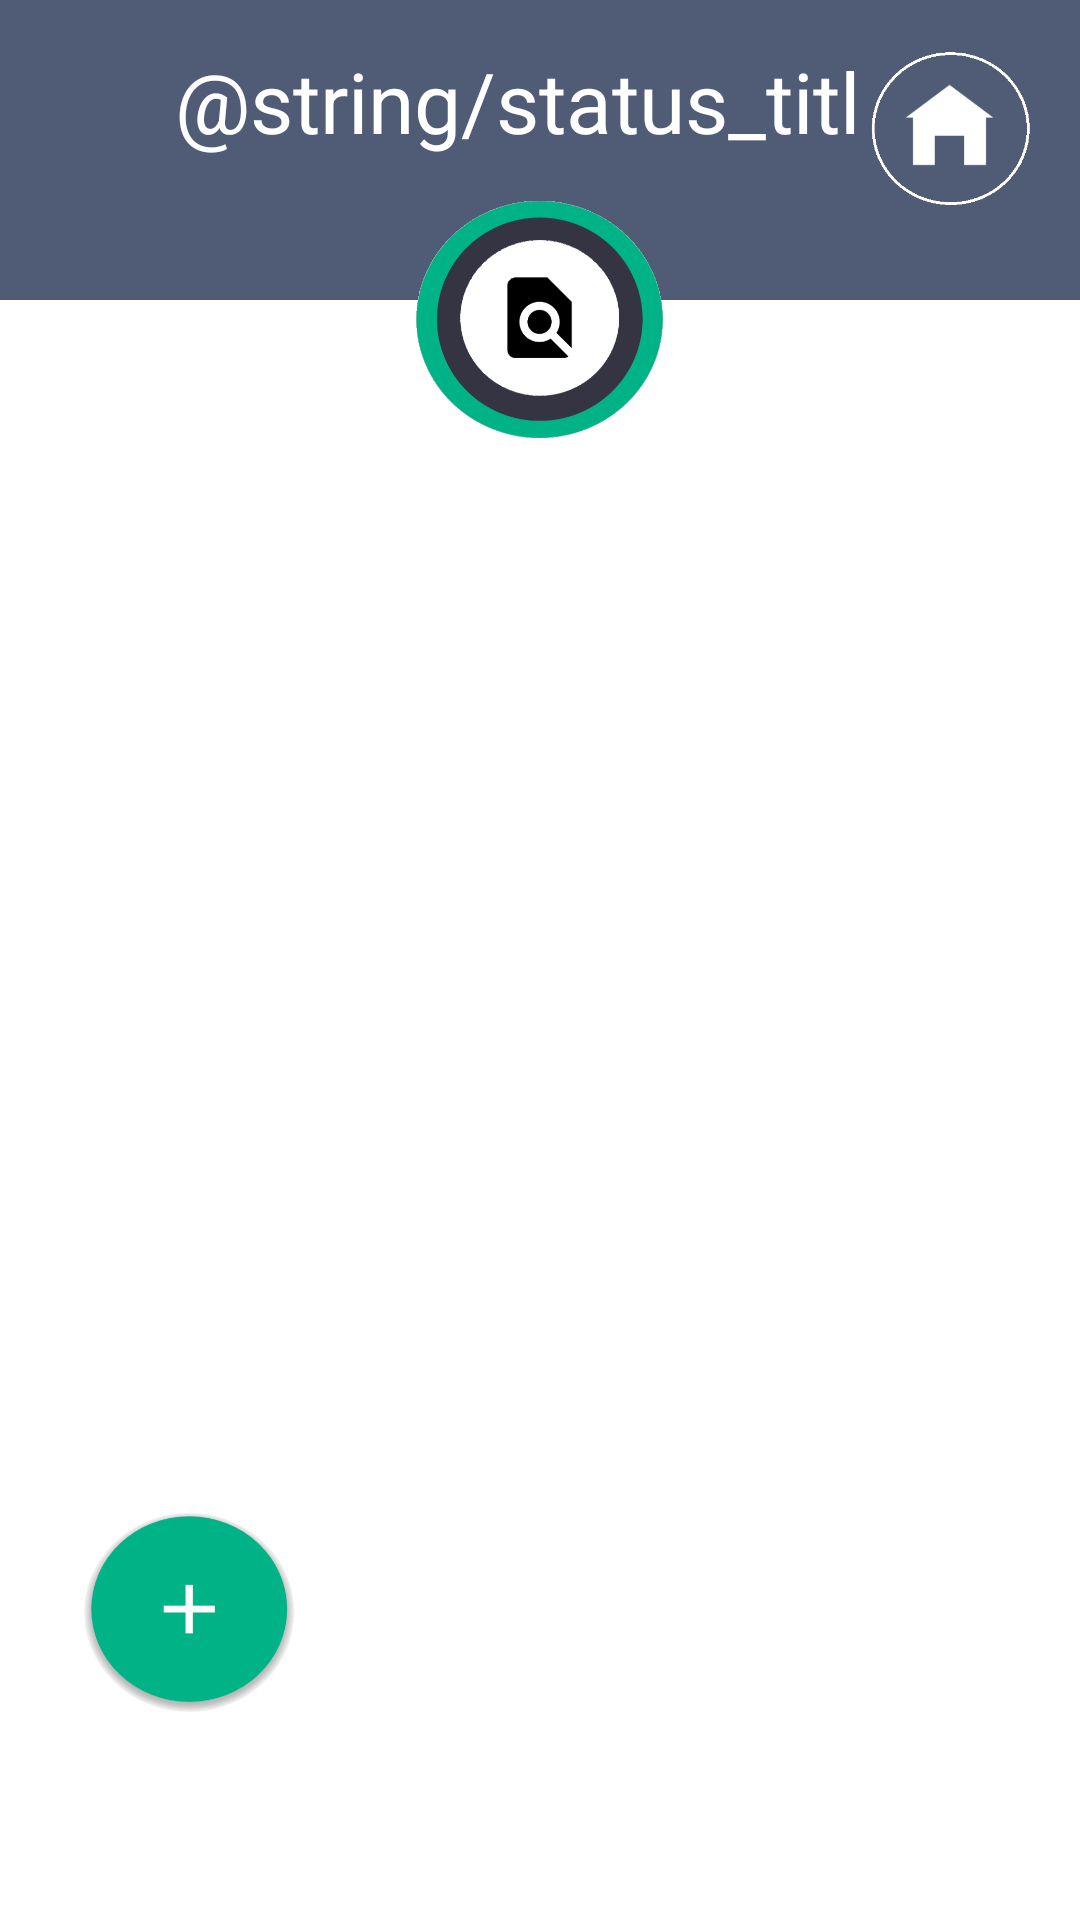

Icon bounding boxes for this 1080×1920 phone screenshot, format [x1,y1,x2,y2]:
add: [86,1515,292,1710]
home circle: [872,52,1030,205]
